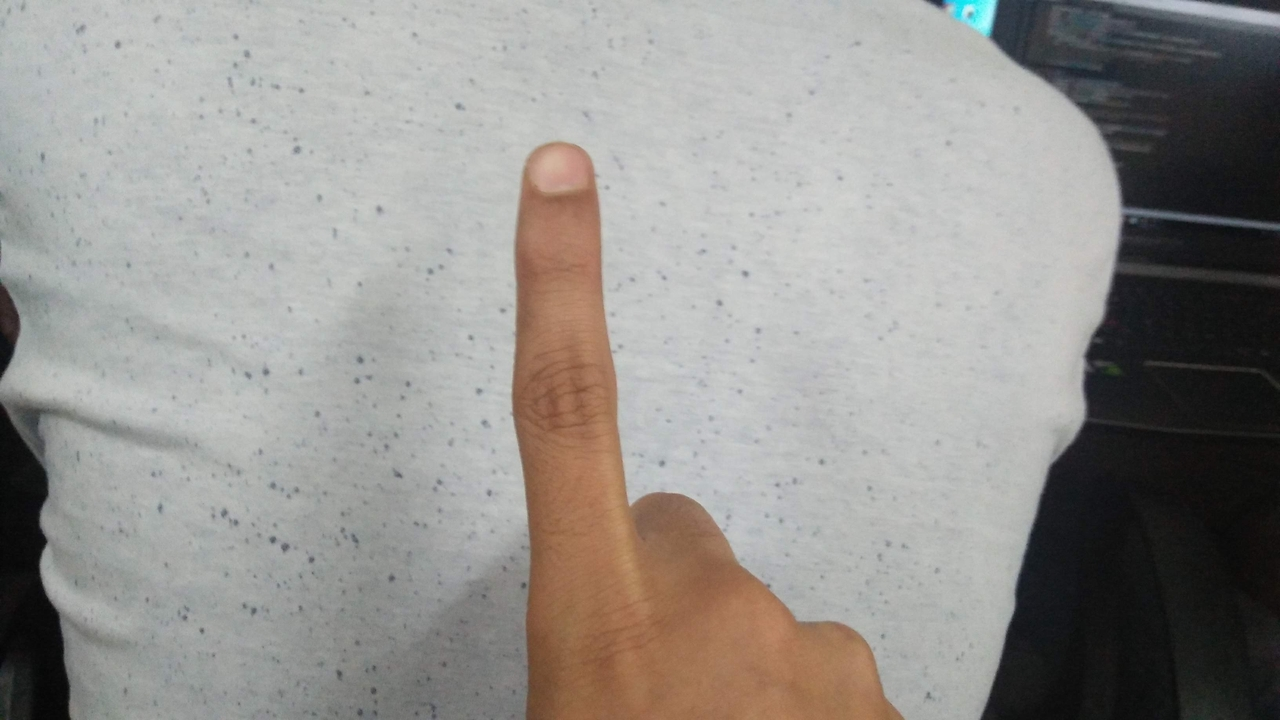fingertip: (510, 138, 600, 196)
